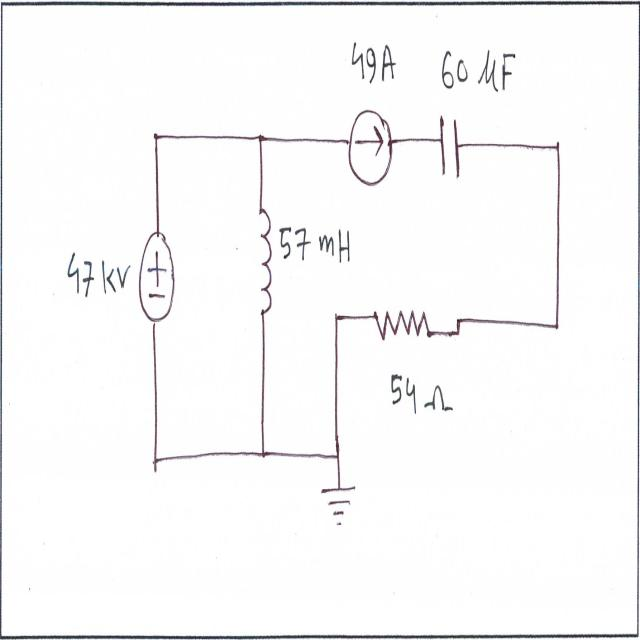capacitor: (436, 109, 466, 191)
current_source: (343, 104, 401, 192)
ground: (317, 478, 362, 534)
inductor: (252, 203, 275, 331)
resistor: (368, 300, 432, 353)
voltage_source: (134, 220, 178, 336)
